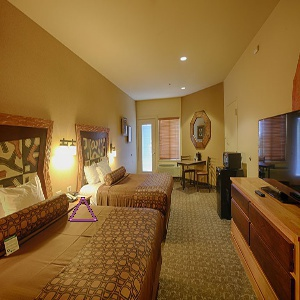triangle: (65, 193, 100, 224)
